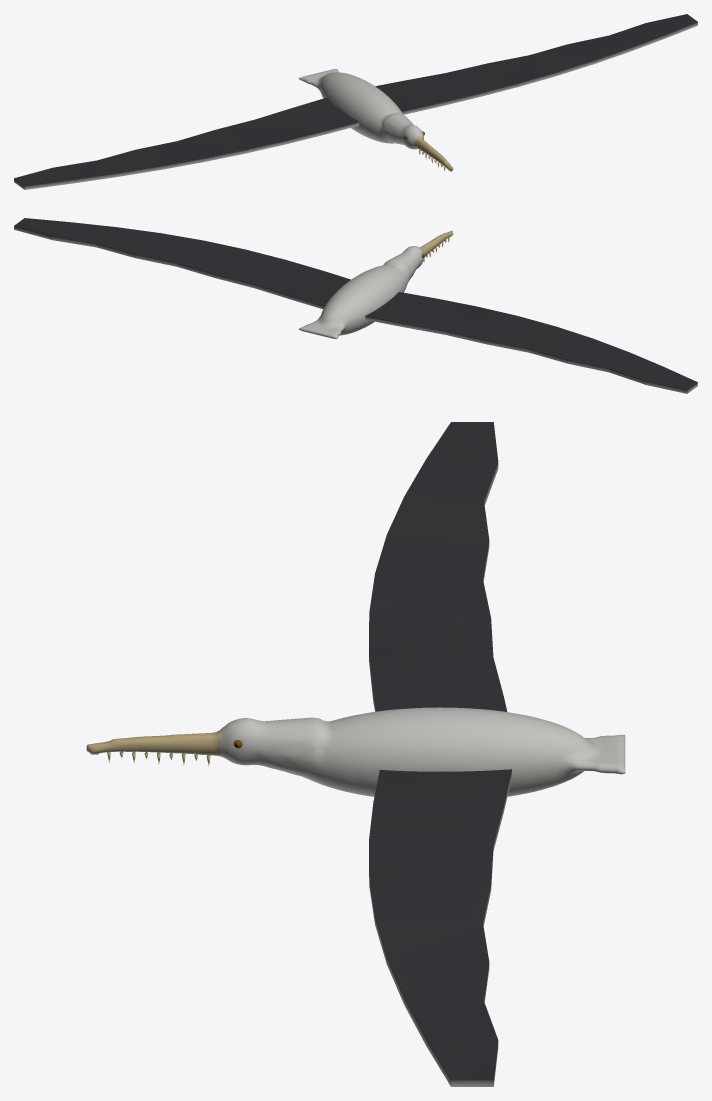
File: PelagornisChilensis.fbx
3 views of the same model, one above another, from view 1: azimuth 30°, elevation 25°; view 2: azimuth 150°, elevation 25°; view 3: azimuth 270°, elevation 25° (orthographic). The views are drawn at different scales.
Parts seen in each view (by area): view 1: PelagornisChilensis; view 2: PelagornisChilensis; view 3: PelagornisChilensis.
Boxes of the visible parts, left/top/right/bottom form: PelagornisChilensis: left=14, top=14, right=697, bottom=189; PelagornisChilensis: left=14, top=218, right=697, bottom=393; PelagornisChilensis: left=86, top=422, right=625, bottom=1086.
Bounding box in the file's own units: 4 × 0.2383 × 1.39.
